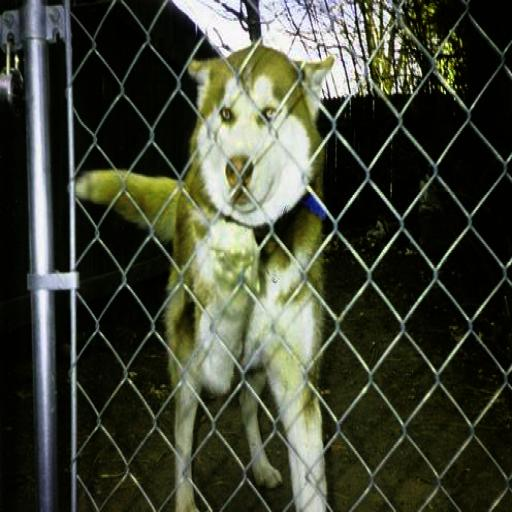dog_face: (187, 45, 334, 226)
